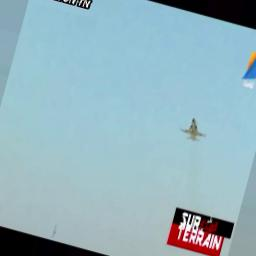Airplane: (179, 116, 208, 143)
